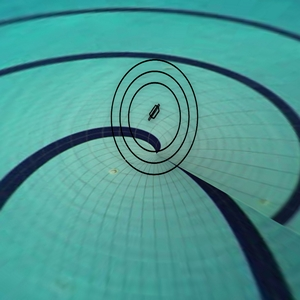circle: (94, 49, 235, 193)
submarine: (143, 94, 165, 126)
